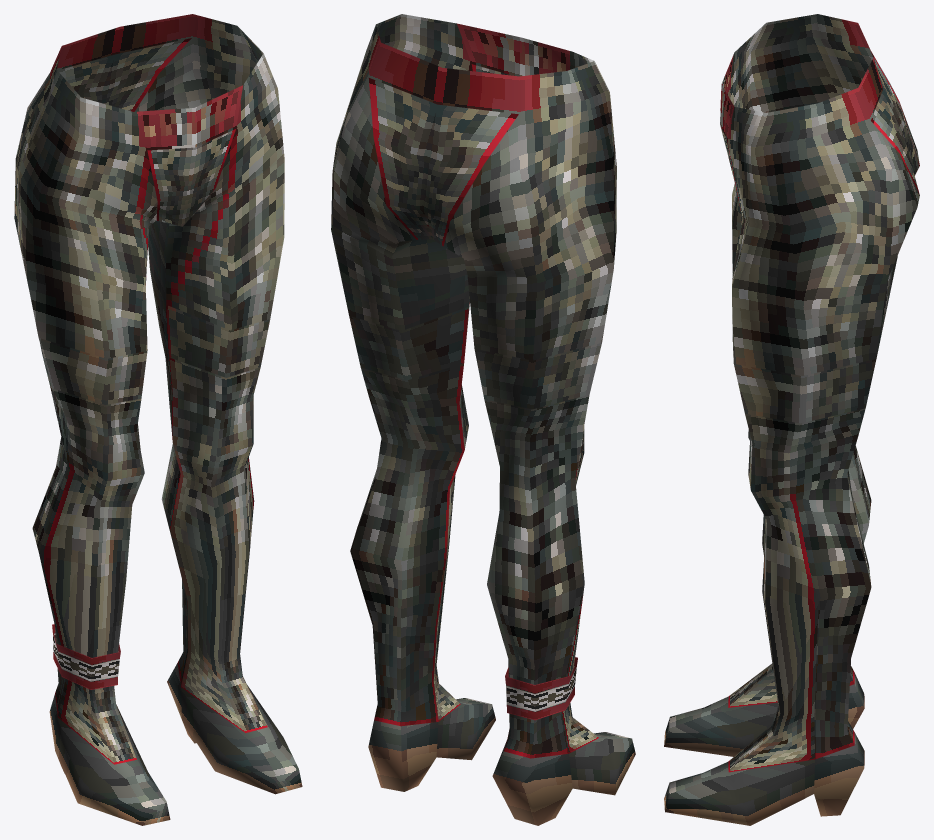
The model's file is f_reg113.glb.
3 renders of one model, left to right at view 1: azimuth 30°, elevation 25°; view 2: azimuth 150°, elevation 25°; view 3: azimuth 270°, elevation 25°, orthographic. The views are drawn at different scales.
Bounding box in the file's own units: 41.81 × 111 × 35.5.
1 material, 1 textured.
